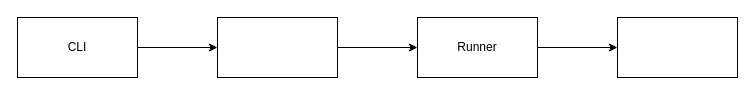
The diagram is 755 pixels wide and 95 high, and some of its shapes have lost their labels. Here are the shapes that lost their labels. From the top down, the centre of each, then its label:
pixel 277 47: AppService
pixel 677 47: Engine
